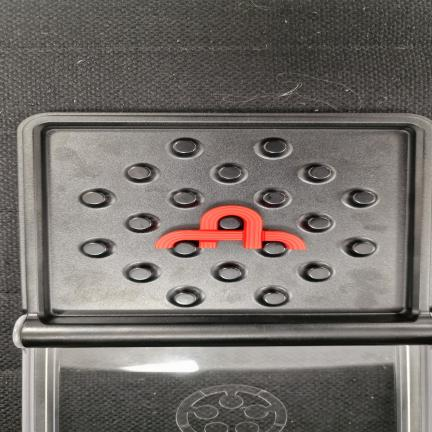E_Red: (155, 206, 306, 250)
board: (17, 113, 432, 347)
hinge: (9, 311, 432, 346)
pin: (263, 139, 287, 155), (82, 242, 107, 256), (351, 241, 376, 255), (173, 139, 196, 154), (82, 191, 106, 205), (352, 191, 376, 205), (128, 217, 152, 231), (262, 291, 286, 305), (218, 166, 241, 180), (127, 166, 150, 180), (173, 191, 196, 205), (263, 191, 286, 205), (129, 267, 152, 281), (174, 292, 197, 306), (173, 242, 197, 255), (218, 267, 242, 280), (308, 166, 331, 179), (307, 217, 330, 230), (219, 216, 242, 229), (307, 267, 330, 280), (263, 242, 285, 255)
